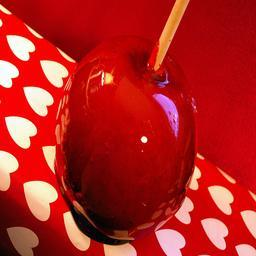apple: (56, 35, 199, 244)
